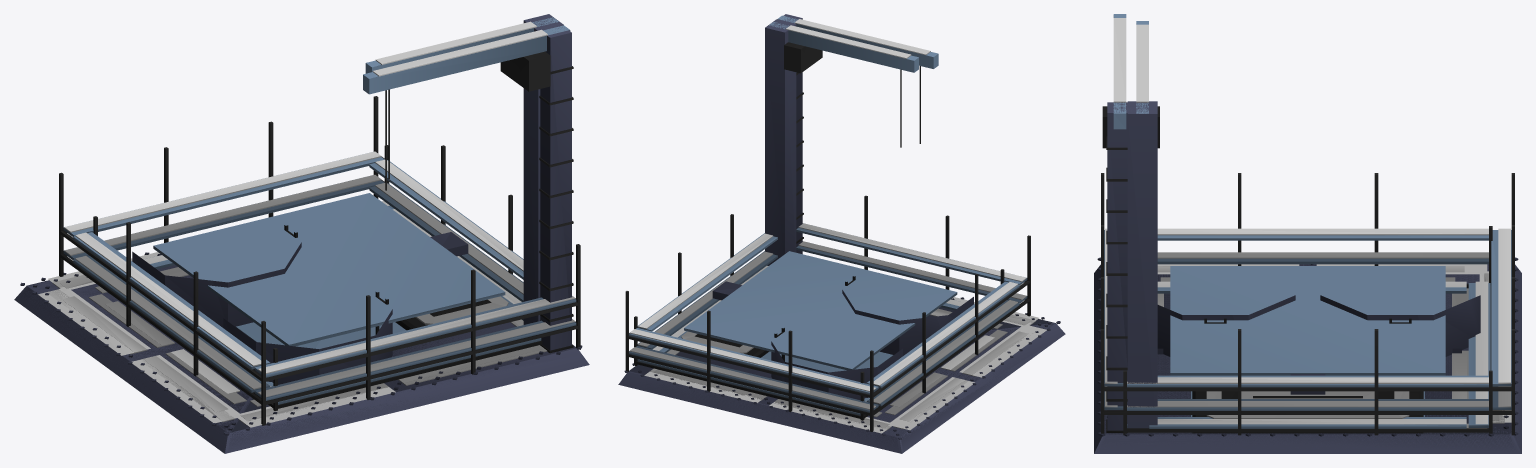
File: veyran_ore_silo_scaffolding.glb
The picture shows the model from 3 angles, left to right: view 1: azimuth 30°, elevation 25°; view 2: azimuth 150°, elevation 25°; view 3: azimuth 270°, elevation 25°; orthographic projection. The views are drawn at different scales.
Parts seen in each view (by area): view 1: body (×3); view 2: body (×3); view 3: body (×3).
Part boxes in pixels (x1,y1,x2,y2): body (×3): [14, 14, 589, 453]; body (×3): [618, 14, 1065, 453]; body (×3): [1094, 14, 1521, 453].
Bounding box in the file's own units: 7.4 × 6.42 × 7.4.
